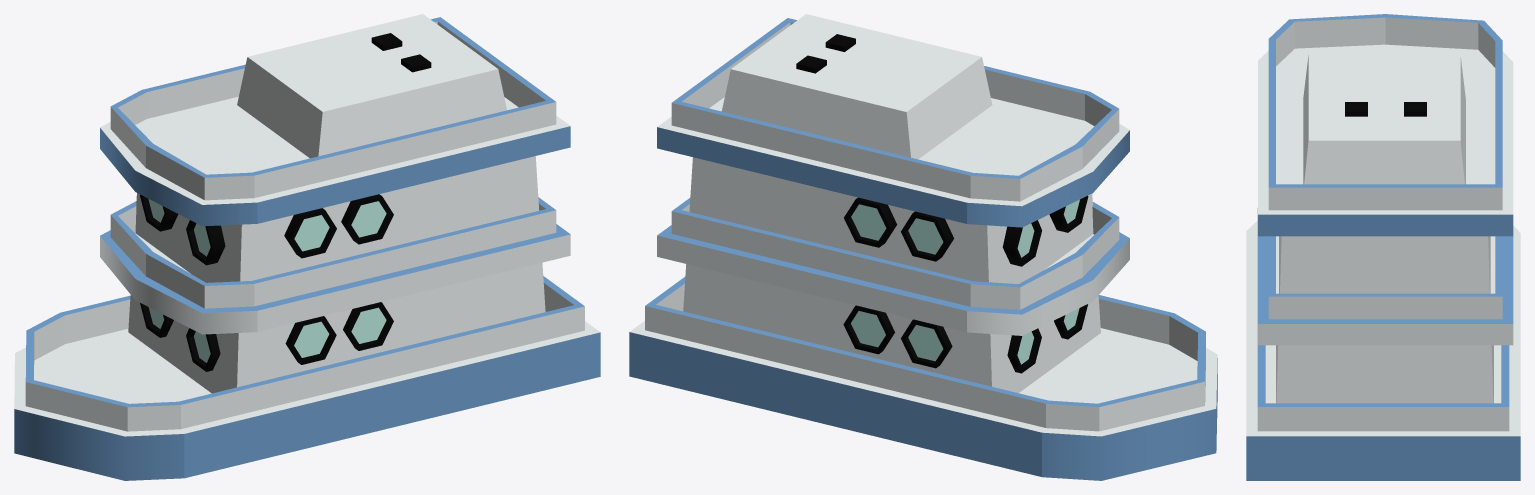
Rendered from Boat.fbx.
The picture shows the model from 3 angles, left to right: view 1: azimuth 30°, elevation 25°; view 2: azimuth 150°, elevation 25°; view 3: azimuth 270°, elevation 25°; orthographic projection.
Visible parts, largest first — view 1: Box066, Box067, Cylinder068, Box071; view 2: Box066, Box067, Cylinder068, Box071; view 3: Box066, Box067, Box071.
Part boxes in pixels (box(x1,y1,x2,y2)): Box066: box(14, 17, 600, 480); Box067: box(128, 14, 545, 393); Cylinder068: box(140, 194, 393, 371); Box071: box(371, 33, 431, 72); Box066: box(629, 18, 1217, 480); Box067: box(683, 14, 1100, 392); Cylinder068: box(843, 195, 1088, 373); Box071: box(796, 34, 855, 73); Box066: box(1246, 14, 1520, 480); Box067: box(1276, 54, 1493, 403); Box071: box(1345, 102, 1426, 116).
Bounding box in the file's own units: 200 × 114 × 91.09.
Materials: 4 (4 with a texture image).
